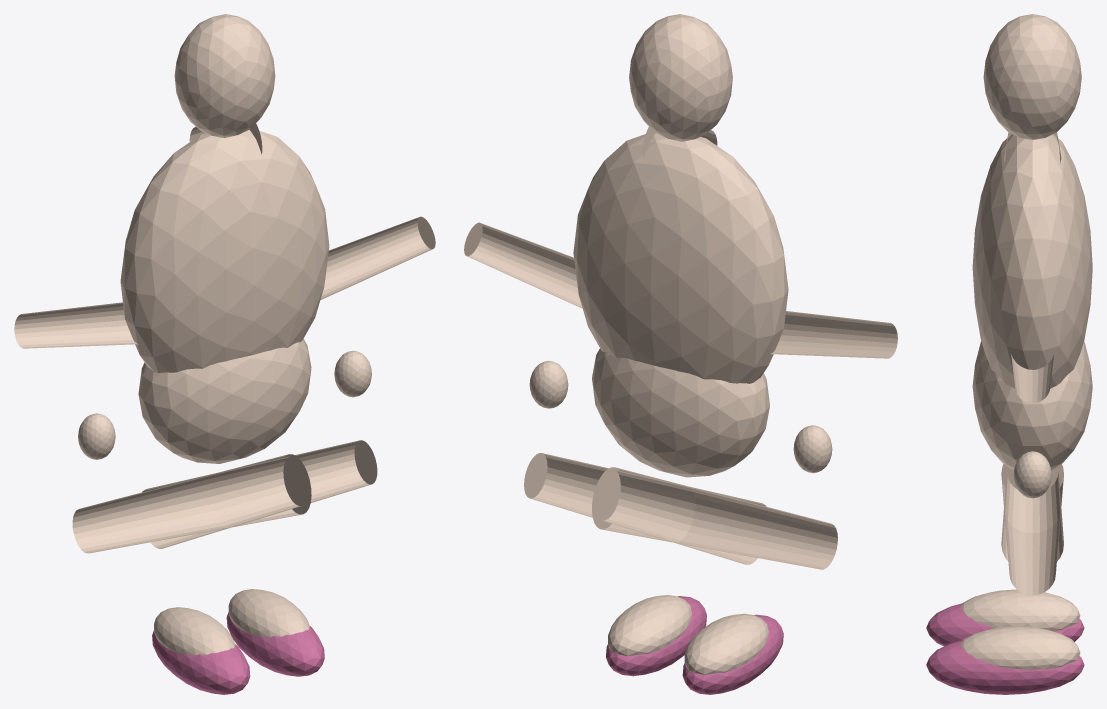
Rendered from masculino-tenis.glb.
3 views of the same model, side by side, from view 1: azimuth 30°, elevation 25°; view 2: azimuth 150°, elevation 25°; view 3: azimuth 270°, elevation 25° (orthographic). The views are drawn at different scales.
Visible parts, largest first — view 1: Avatar0, Avatar1, Avatar3, Avatar4, Avatar8, Prenda, Avatar10, Avatar6, Avatar9, Avatar5, Avatar7, Avatar11; view 2: Avatar0, Avatar1, Avatar3, Avatar4, Avatar8, Avatar10, Prenda, Avatar6, Avatar5, Avatar9, Avatar11, Avatar7; view 3: Avatar0, Avatar3, Avatar1, Prenda, Avatar9, Avatar8, Avatar5, Avatar4, Avatar11, Avatar10.
Boxes of the visible parts, box(x1,y1,x2,y2) form: Avatar0: box(120, 129, 329, 373); Avatar1: box(138, 339, 311, 463); Avatar3: box(174, 14, 275, 137); Avatar4: box(72, 454, 311, 553); Avatar8: box(142, 440, 377, 548); Prenda: box(152, 612, 324, 694); Avatar10: box(320, 216, 435, 299); Avatar6: box(14, 302, 138, 348); Avatar9: box(228, 589, 309, 636); Avatar5: box(154, 607, 235, 655); Avatar7: box(78, 413, 115, 459); Avatar11: box(334, 350, 371, 397); Avatar0: box(573, 133, 788, 383); Avatar1: box(592, 348, 769, 477); Avatar3: box(629, 14, 732, 141); Avatar4: box(592, 467, 837, 569); Avatar8: box(524, 453, 766, 564); Avatar10: box(464, 222, 582, 308); Prenda: box(606, 596, 783, 694); Avatar6: box(770, 311, 897, 358); Avatar5: box(684, 613, 768, 674); Avatar9: box(608, 595, 691, 655); Avatar11: box(529, 360, 568, 408); Avatar7: box(793, 425, 832, 473); Avatar0: box(972, 134, 1092, 388); Avatar3: box(983, 14, 1081, 140); Avatar1: box(972, 341, 1092, 470); Prenda: box(926, 603, 1084, 694); Avatar9: box(961, 626, 1080, 669); Avatar8: box(1001, 464, 1063, 595); Avatar5: box(961, 589, 1080, 631); Avatar4: box(1001, 471, 1063, 561); Avatar11: box(1013, 451, 1051, 498); Avatar10: box(1011, 354, 1054, 403).
Size of the model in its own units: 1.75 by 2.65 by 0.61.
